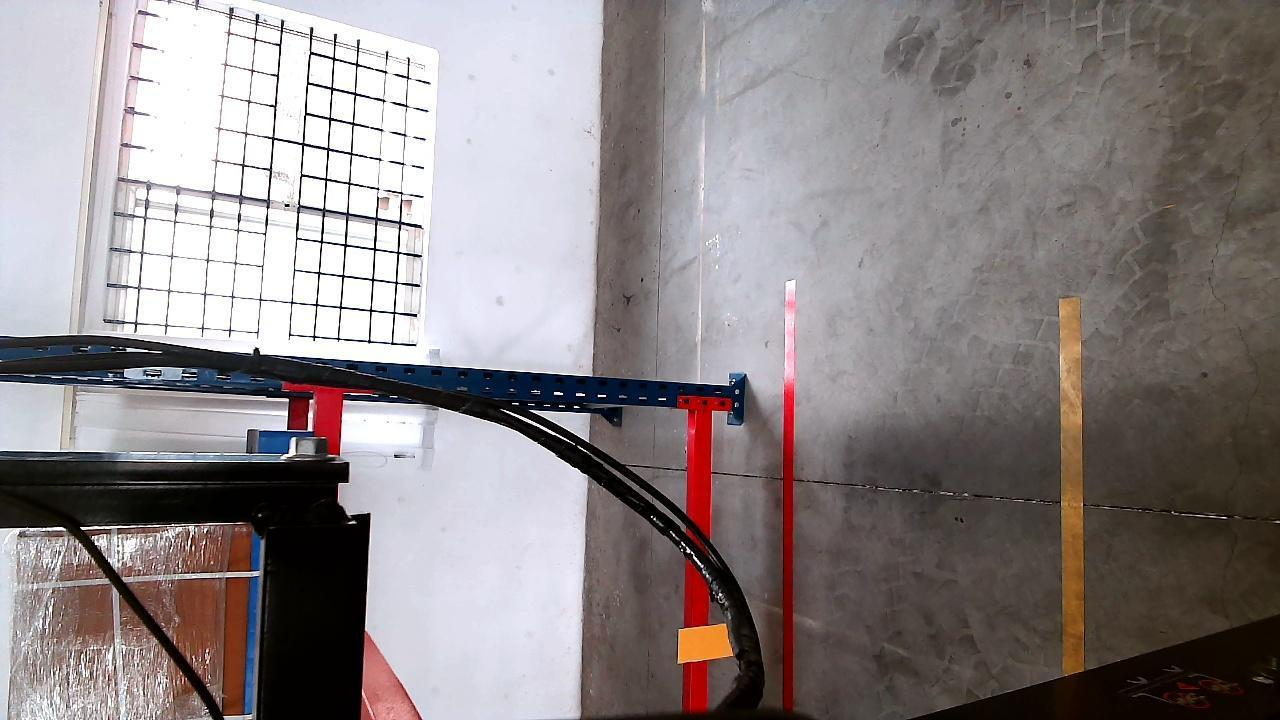h_rack: (682, 403, 716, 710)
orange_strip: (679, 623, 733, 663)
red_line: (777, 282, 799, 708)
yellow_line: (1059, 289, 1089, 677)
